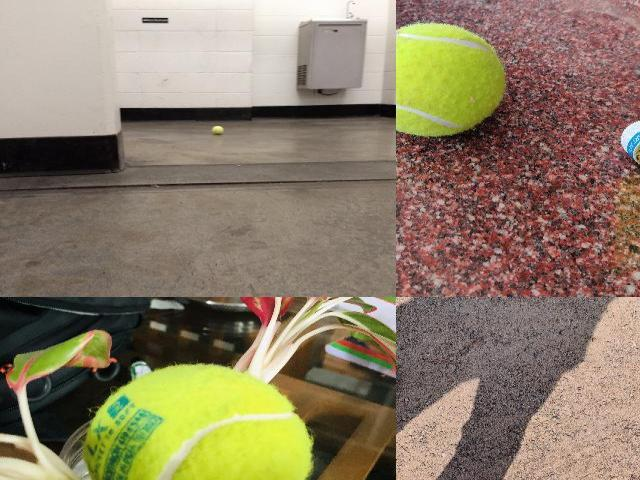tennis-ball: (84, 364, 311, 479), (396, 23, 506, 135), (211, 126, 223, 134)
